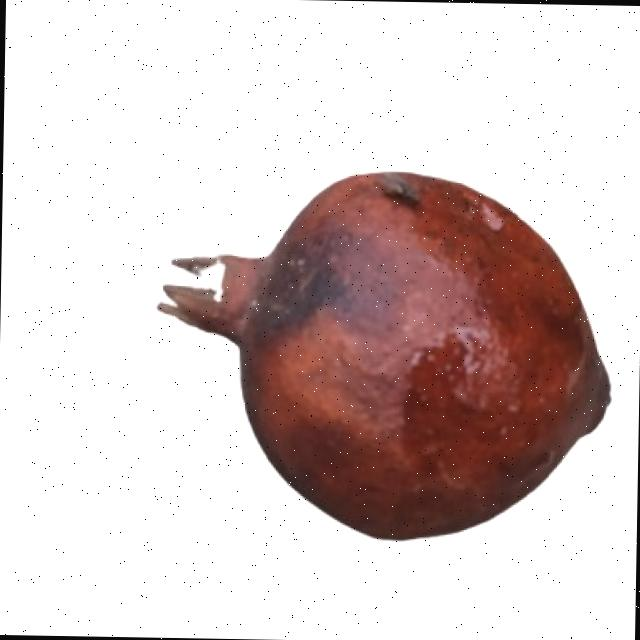Rotten: (148, 159, 617, 547)
